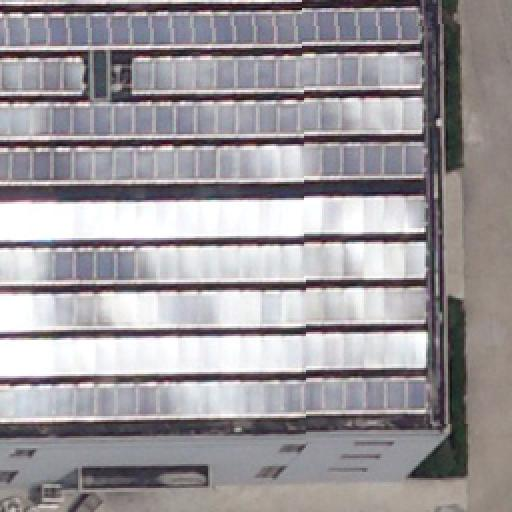solar-panel: (1, 241, 431, 375), (1, 377, 431, 423), (0, 197, 428, 243), (0, 144, 428, 188), (0, 98, 424, 142), (0, 8, 424, 52), (130, 52, 426, 96), (0, 57, 84, 95), (0, 1, 344, 7)
